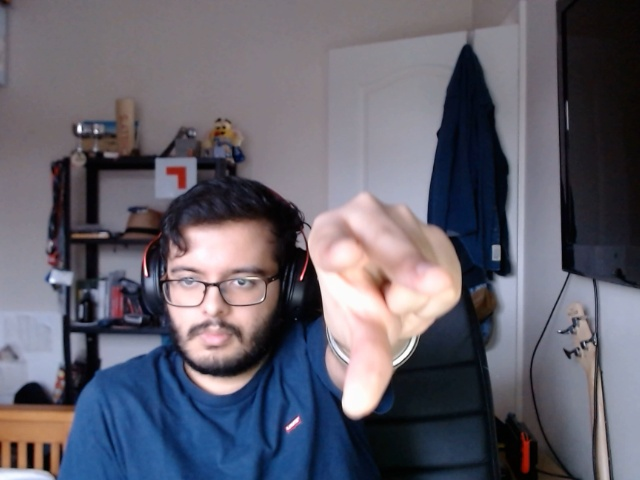No: (297, 189, 486, 427)
